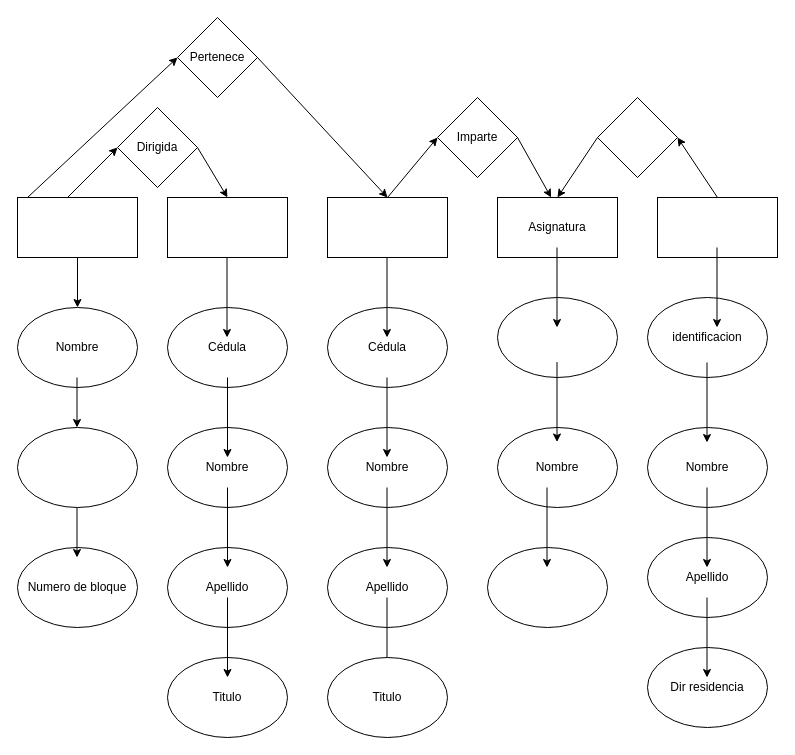
Some shapes in this 795 by 755 pixel diagram are drawn without their labels. Each missing label, with the centre of its shape:
"Codigo" goes at point (557, 337).
"Deacano" goes at point (227, 227).
"Docente" goes at point (387, 227).
"Estudiante" goes at point (717, 227).
"Facultad" goes at point (77, 227).
"Matricula" goes at point (637, 137).
"Num creditos" goes at point (547, 587).
"Ubicacion" goes at point (77, 467).
